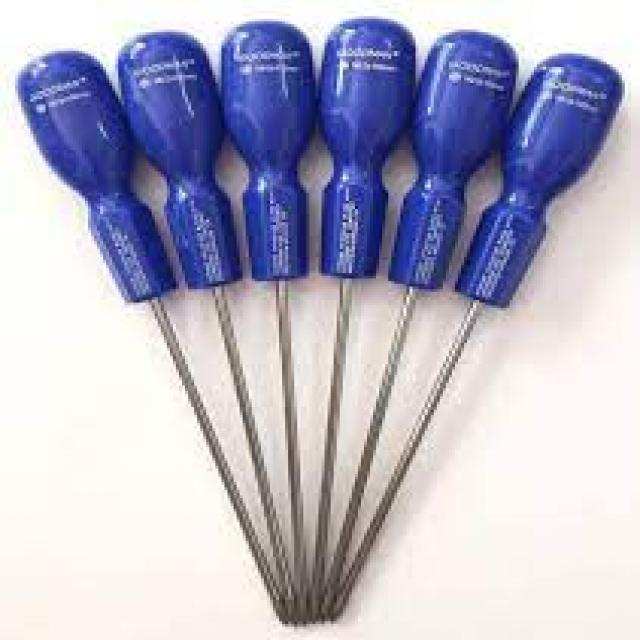screwdriver: (330, 47, 628, 626), (12, 47, 294, 630), (320, 25, 523, 626), (116, 19, 300, 626), (306, 4, 416, 628), (218, 16, 312, 629)
